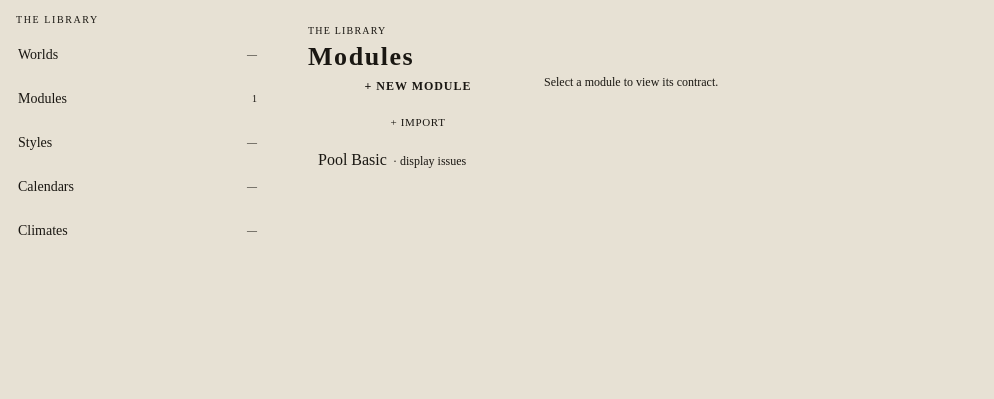
Test: list row flags display issues; detail shows Display section
Check: the text "· display issues" is shown, box [393, 154, 466, 169]
Click the link "Pool Basic · display issues" at (392, 159), box [318, 151, 466, 168]
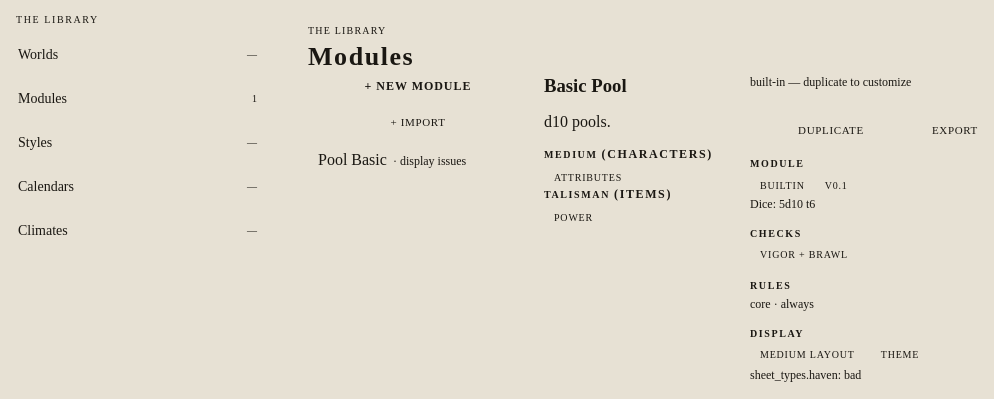
Check: the heading "Display" is shown, box [750, 328, 804, 339]
Check: the text "medium layout" is shown, box [760, 349, 855, 360]
Check: the text "theme" is shown, box [881, 349, 919, 360]
